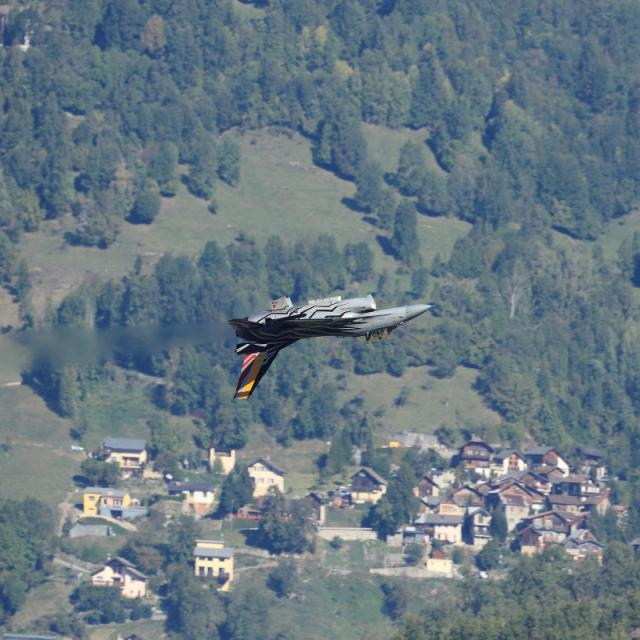MIL_Plane: (226, 293, 439, 400)
